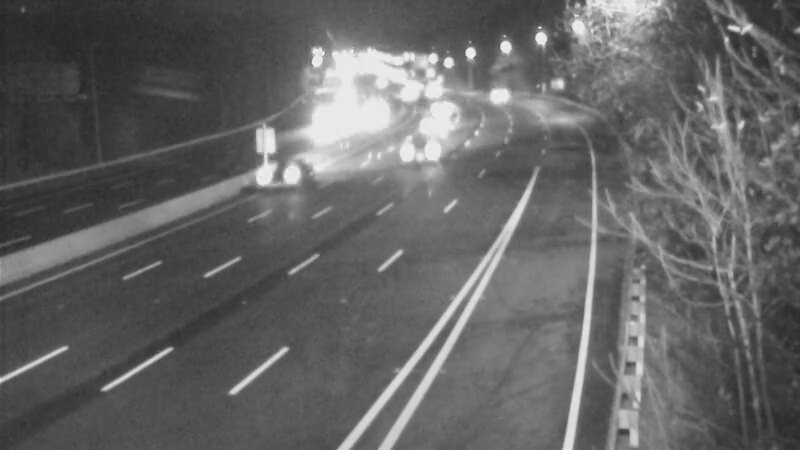vehicle: (383, 111, 463, 191), (403, 62, 453, 112), (463, 67, 513, 117), (380, 66, 430, 116), (412, 84, 462, 134), (404, 93, 454, 143), (347, 94, 397, 144), (295, 100, 345, 150), (324, 77, 374, 127)
